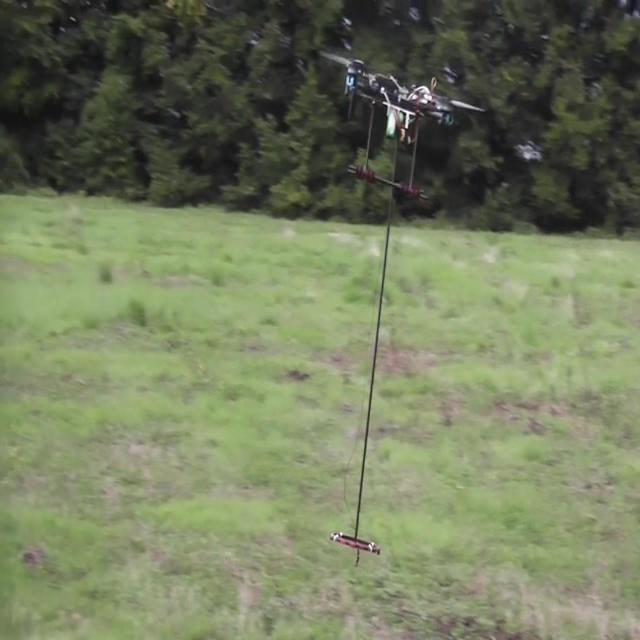UAV: (317, 51, 485, 201)
